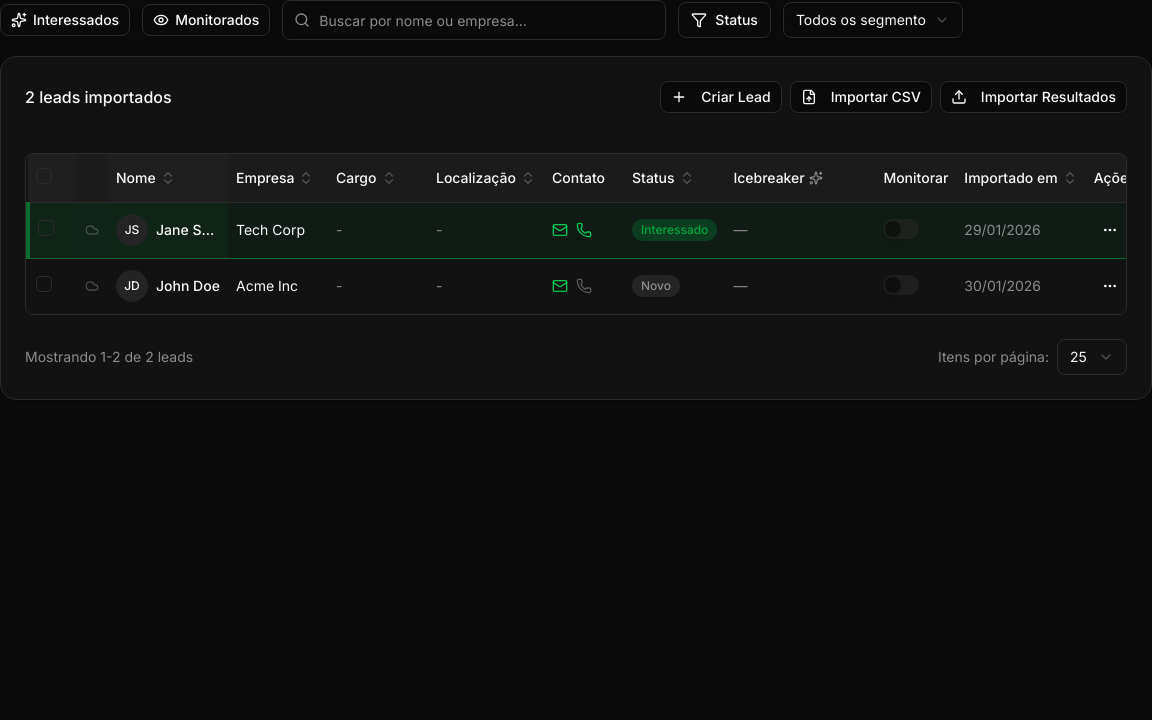
Test case: MyLeadsPageContent › should show 'Importar CSV' button and open dialog on click
Click the button with test id "import-csv-button": {"x": 861, "y": 97} 790,81 -> 932,113
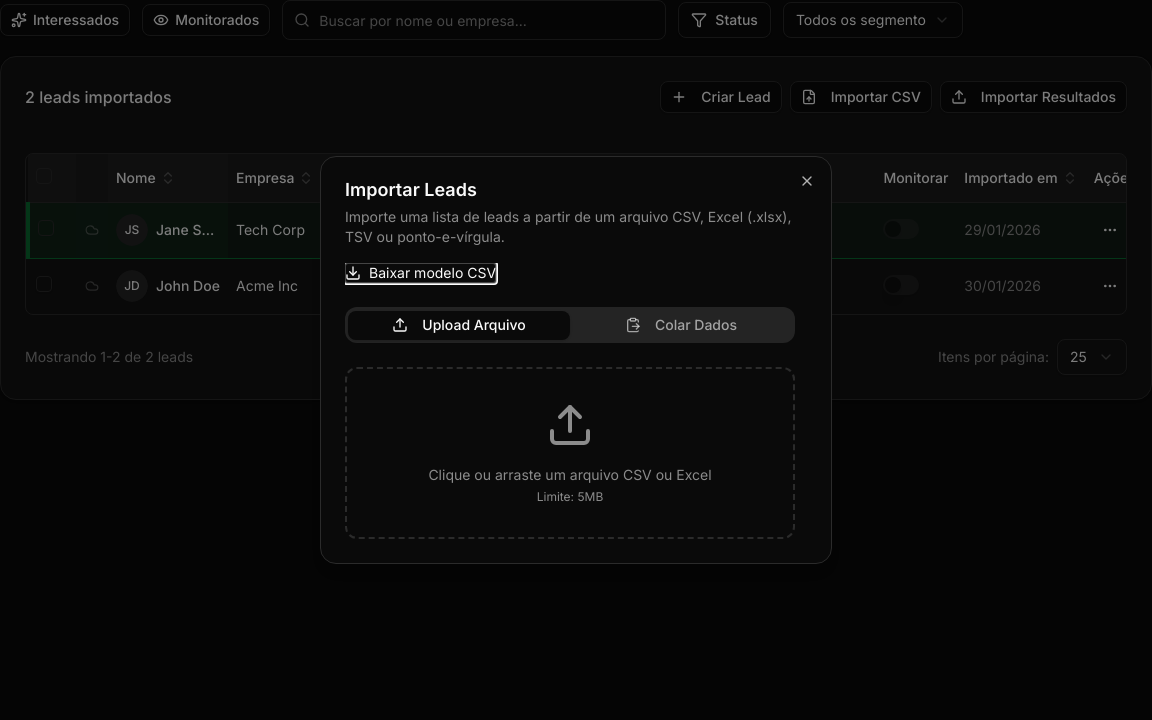
Now the heading "Importar Leads" is shown, box 345,179 -> 477,200
